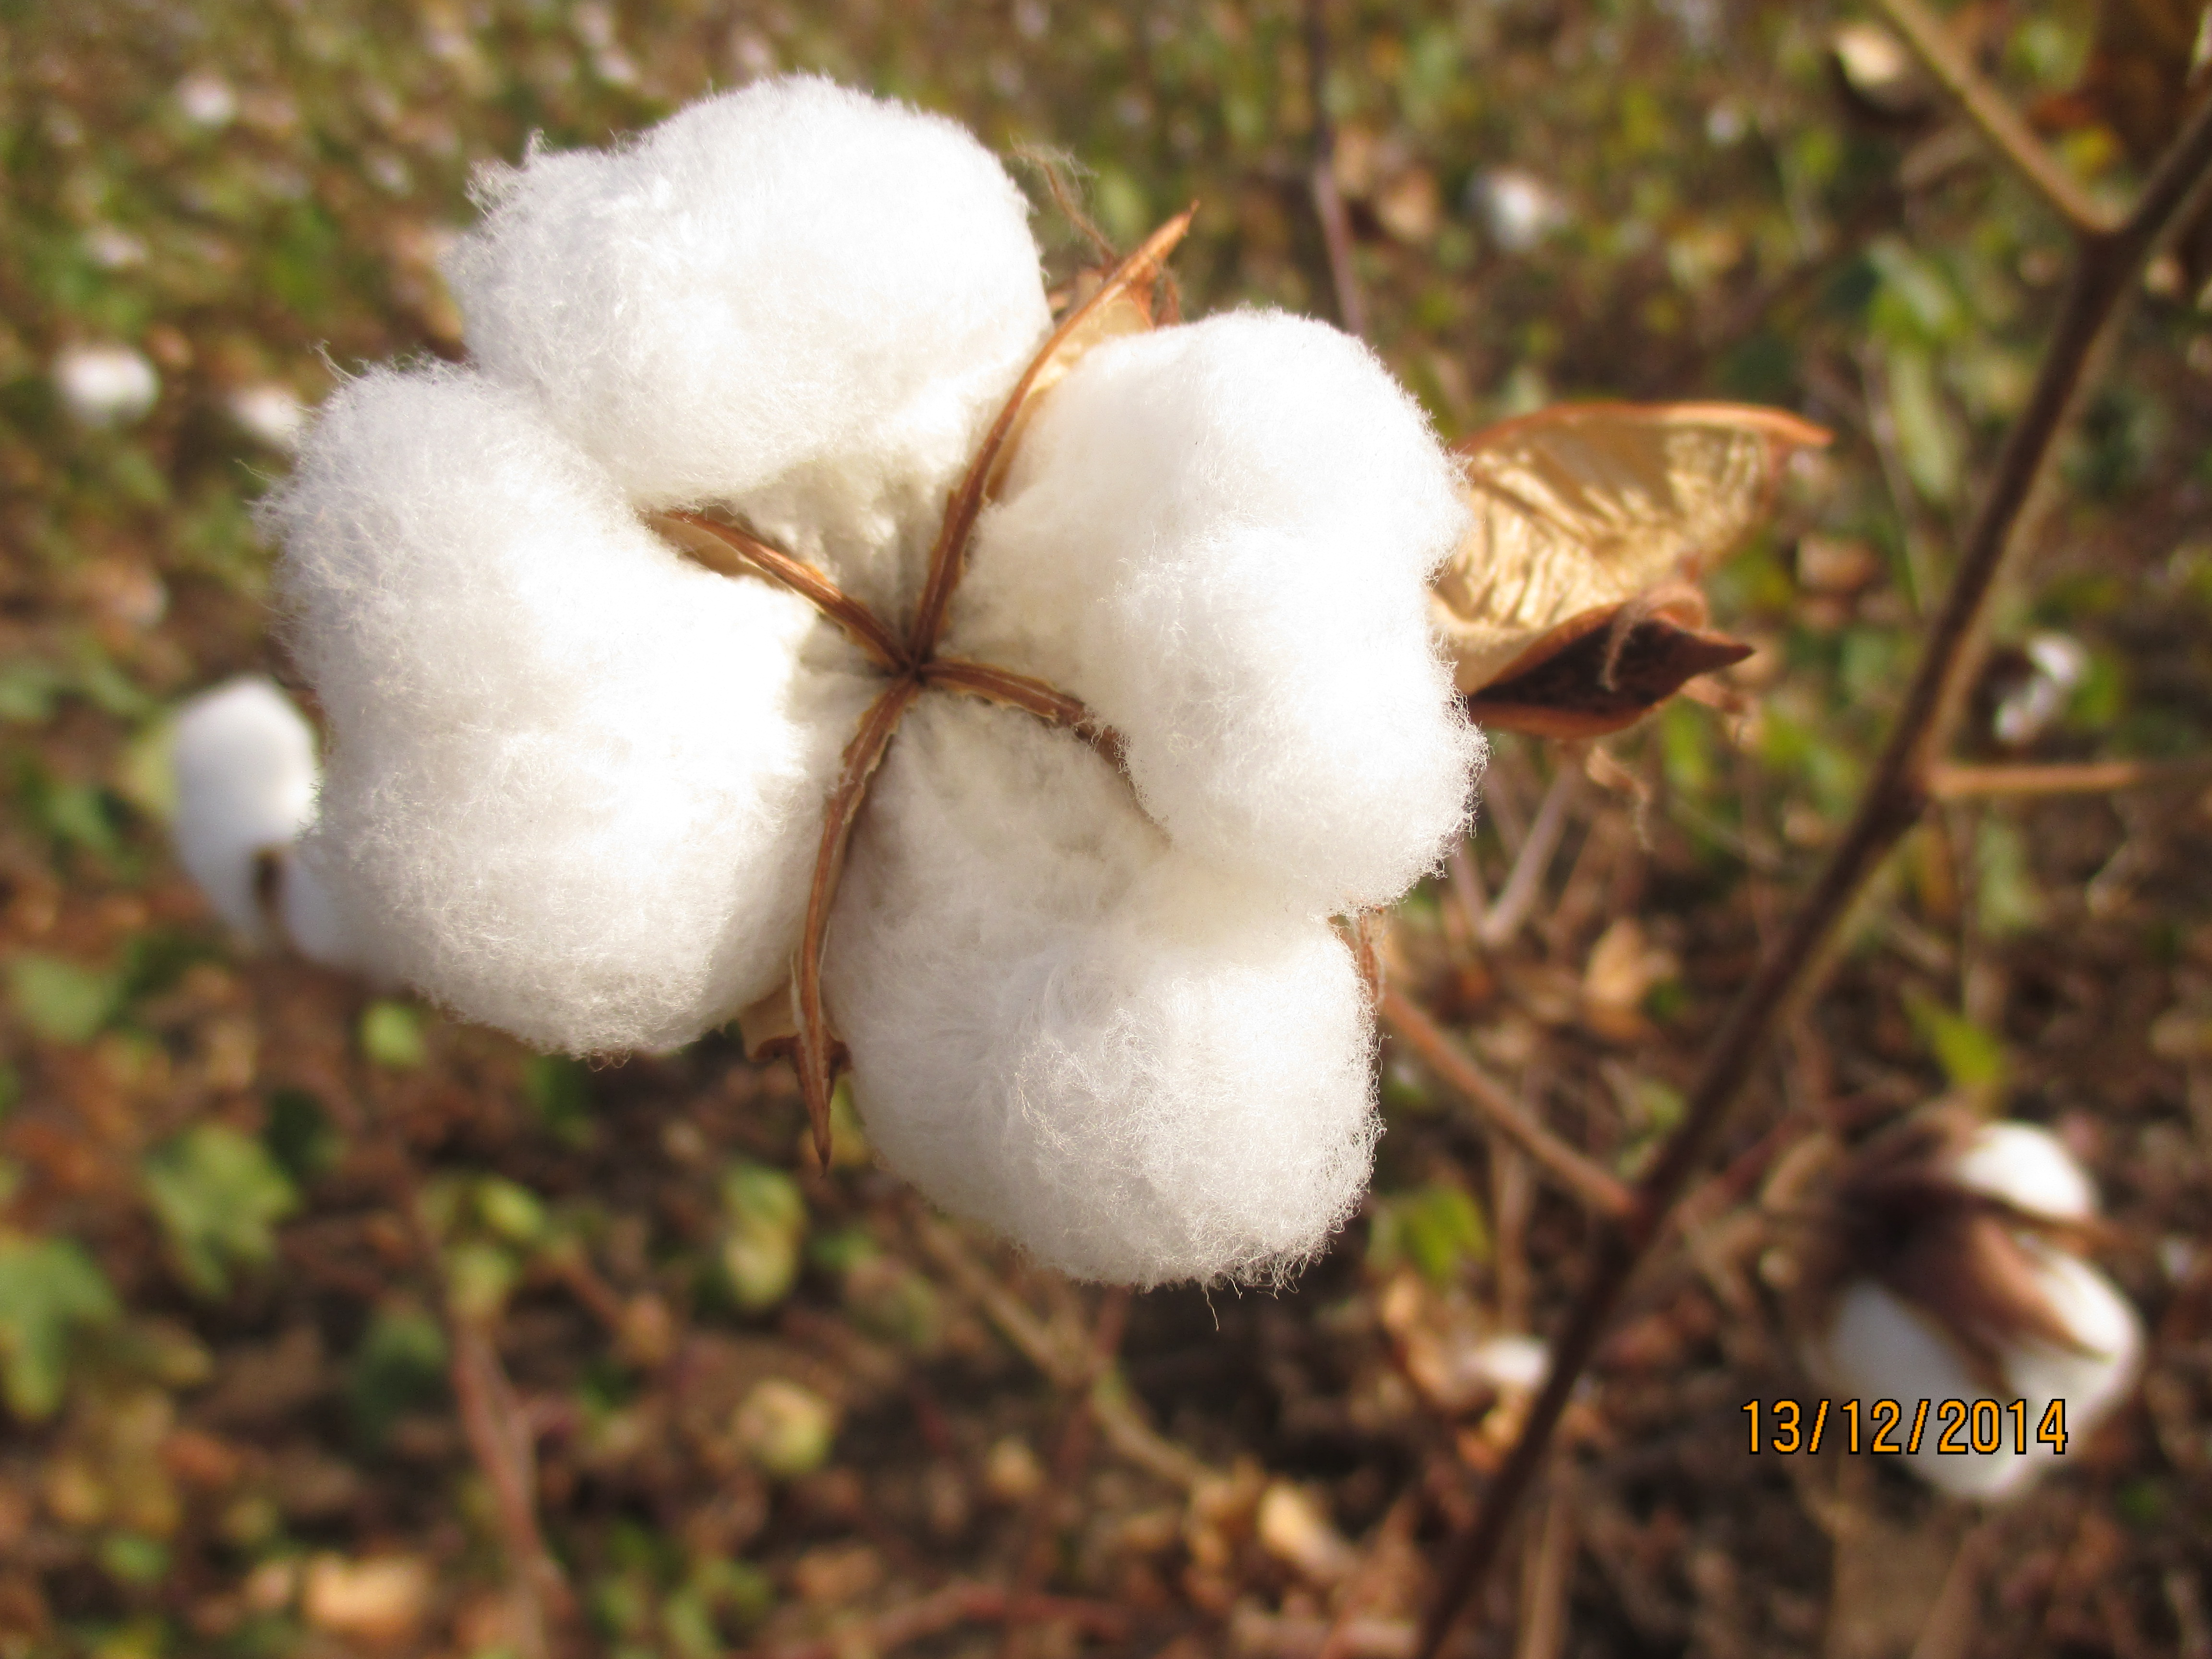cotton: (253, 78, 1420, 1319), (1813, 1089, 2146, 1495)
